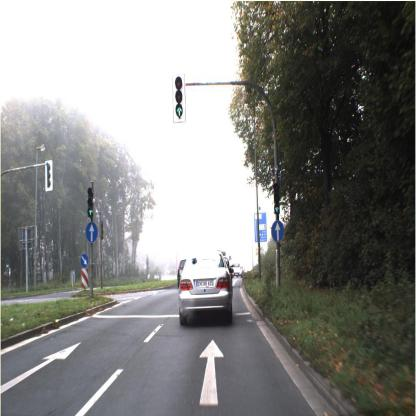mandatory: (270, 219, 285, 243), (85, 220, 99, 245), (79, 251, 90, 268)
